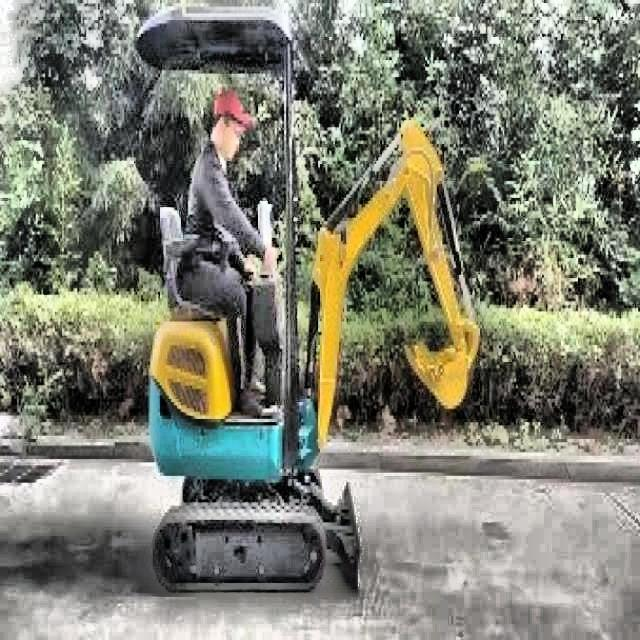bull_dozer/loader/grader: (133, 0, 483, 598)
person: (182, 89, 280, 420)
